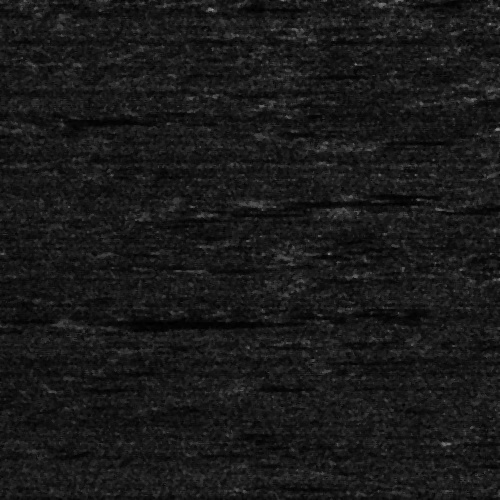object: (49, 315, 112, 328), (244, 198, 297, 205), (488, 72, 500, 77)
shadow: (80, 315, 274, 328), (271, 198, 395, 205), (0, 0, 12, 4)
